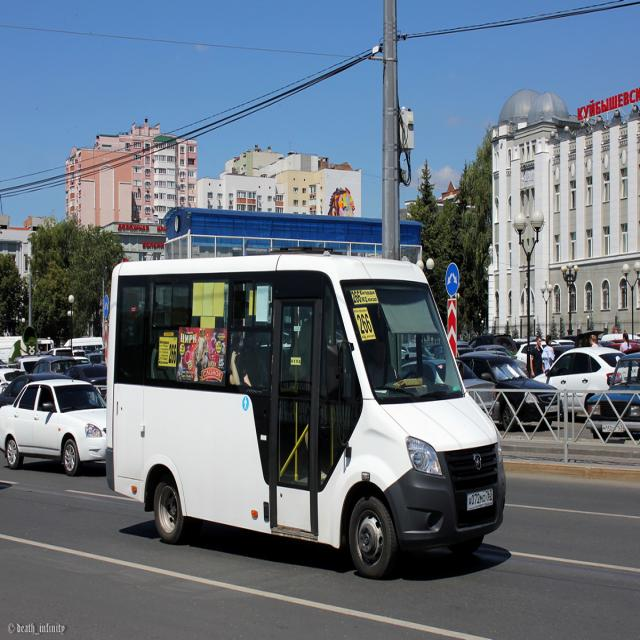number-of-bus: (357, 312, 374, 337), (352, 290, 362, 307), (170, 344, 177, 364)
